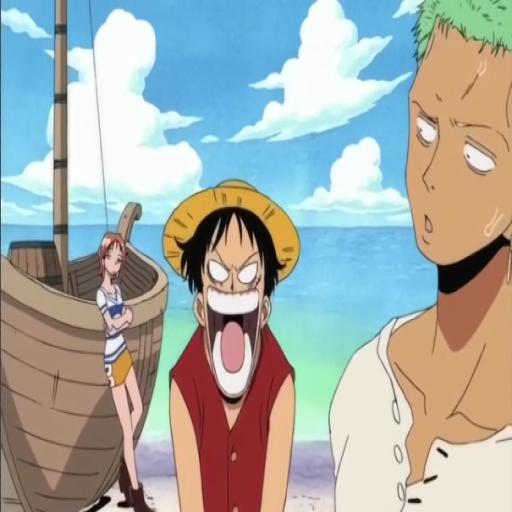Luffy: (151, 170, 323, 512)
Nami: (93, 234, 151, 512)
Zoro: (333, 5, 511, 512)
